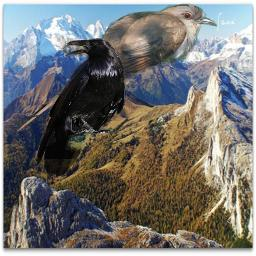Crow: (36, 38, 127, 179)
Cuckoo: (16, 3, 217, 133)
